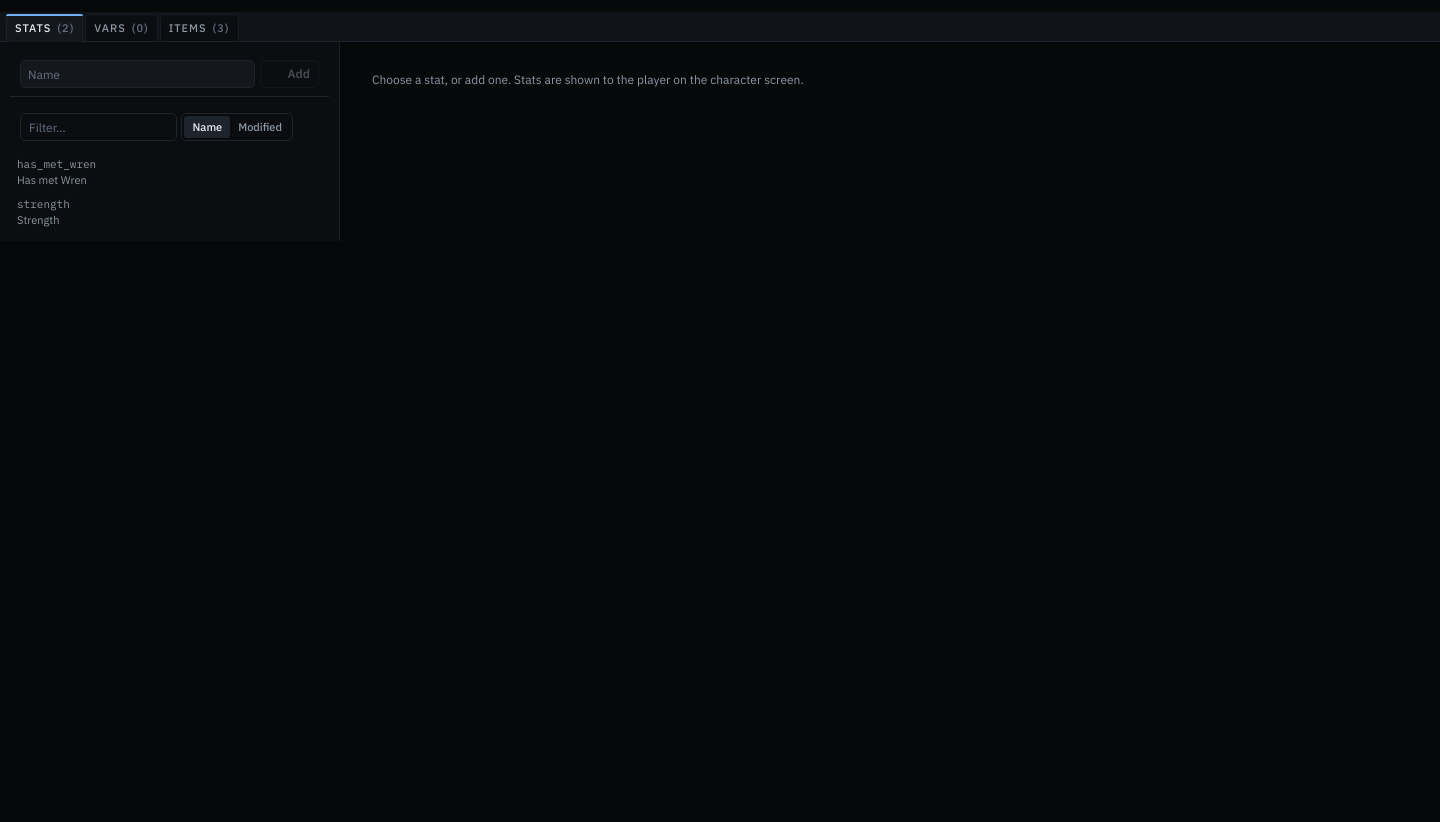
StatsPanel › refuses a rename onto a name already taken, and puts the old one back
The image size is (1440, 822).
Click the text "strength" at (43, 204), box [17,197,70,212]
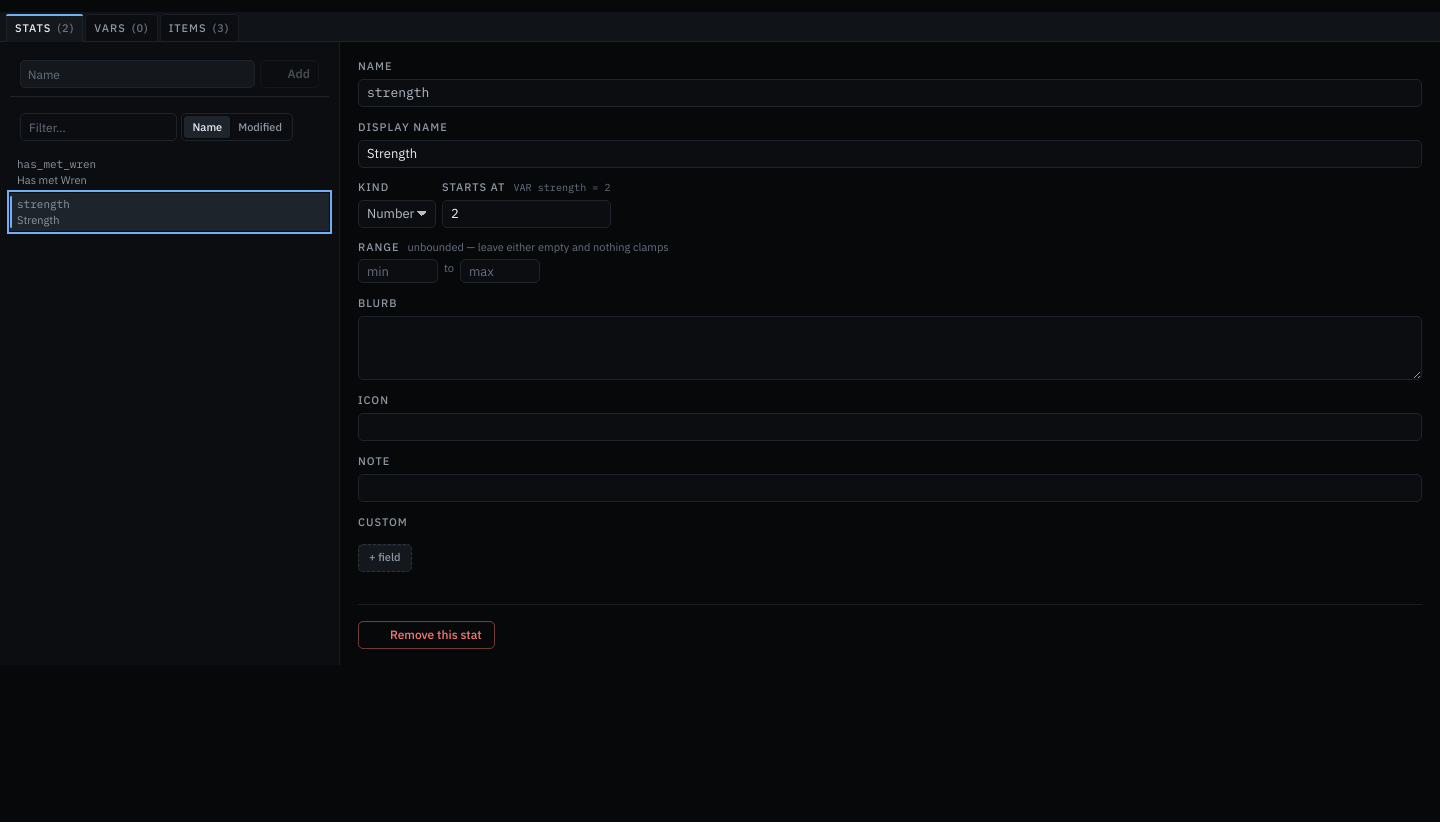
Replace the text in the 2nd field showing "strength" with "shovel" at (890, 93), box [358,79,1422,107]
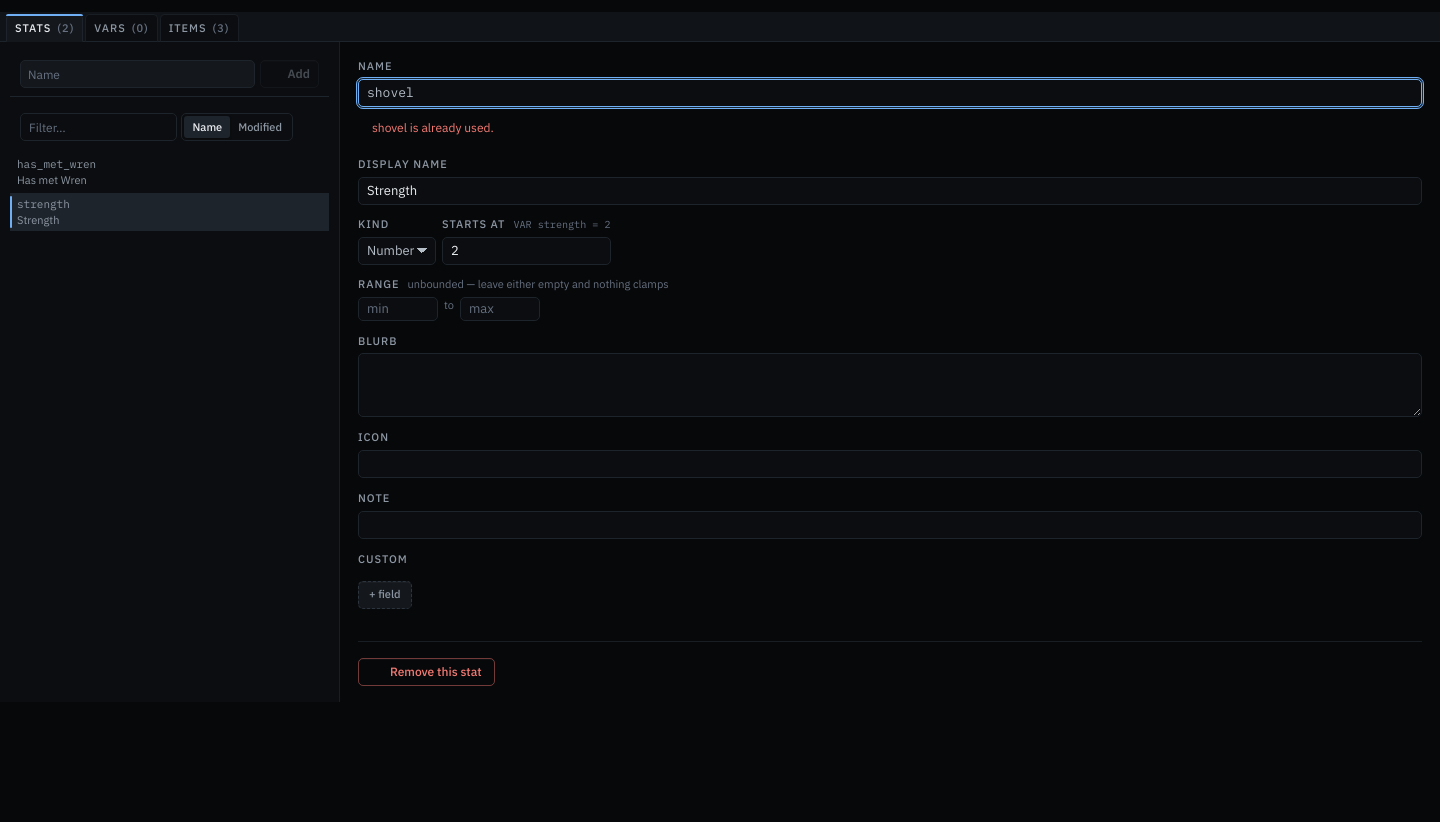
expect the text "shovel is already used." is shown: met, box [372,120,494,135]
Press Tab
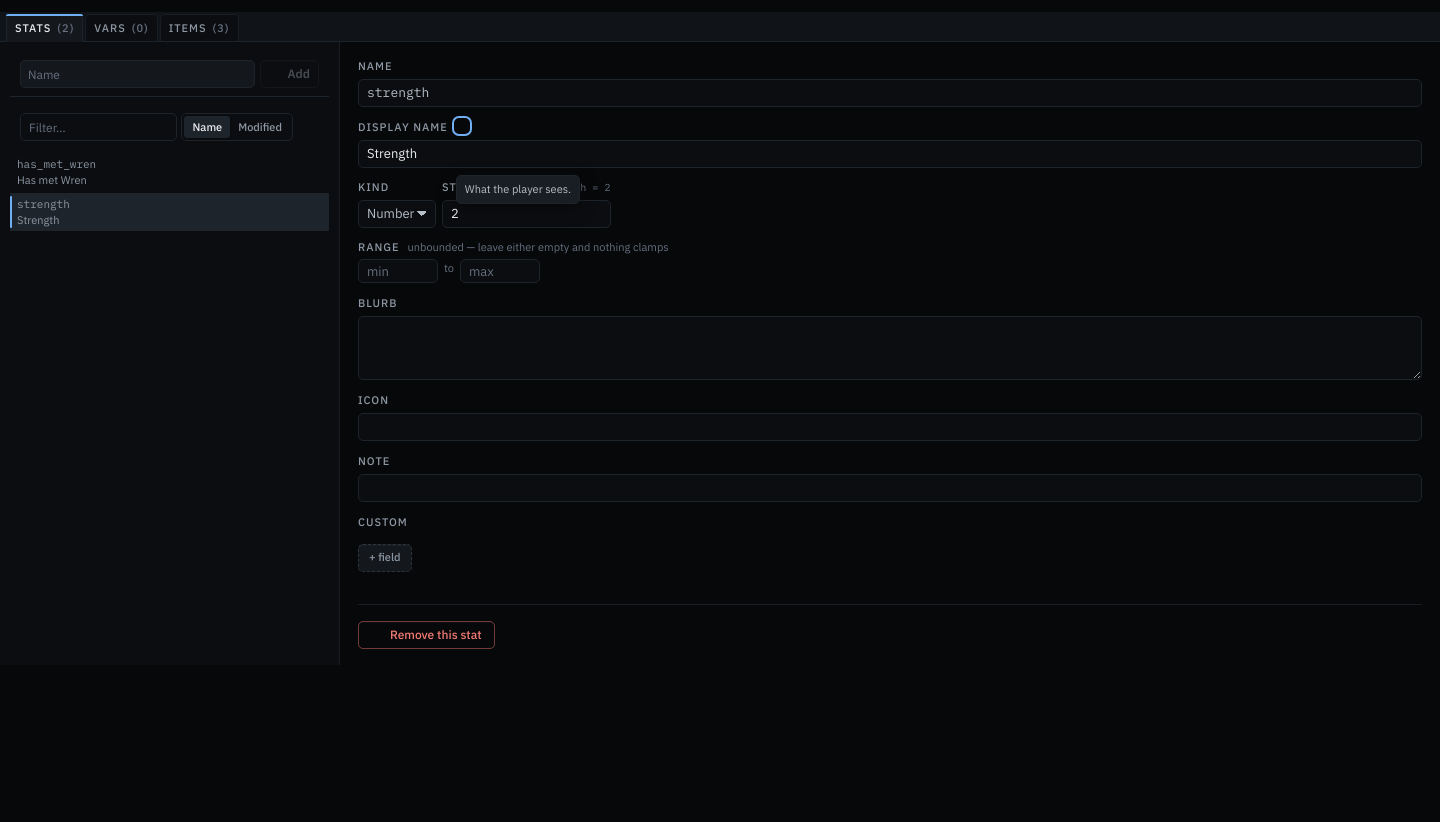
expect the 2nd field showing "strength" is shown: met, box [358,79,1422,107]
